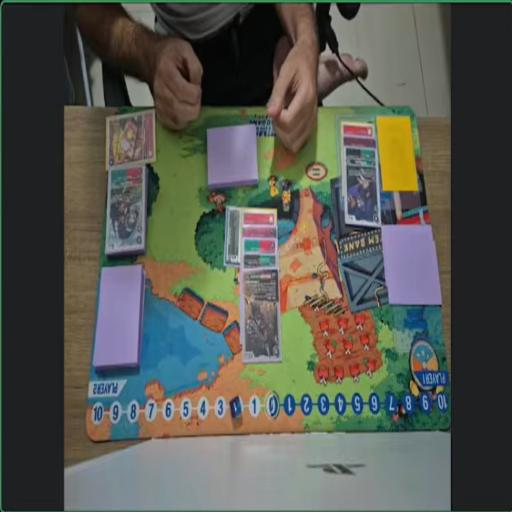card: (104, 168, 147, 262), (240, 271, 278, 366), (104, 111, 158, 171), (340, 146, 380, 225), (224, 208, 244, 269), (242, 210, 279, 230), (340, 133, 378, 152), (240, 240, 280, 257), (243, 225, 280, 241), (341, 120, 376, 136), (243, 254, 278, 268)
